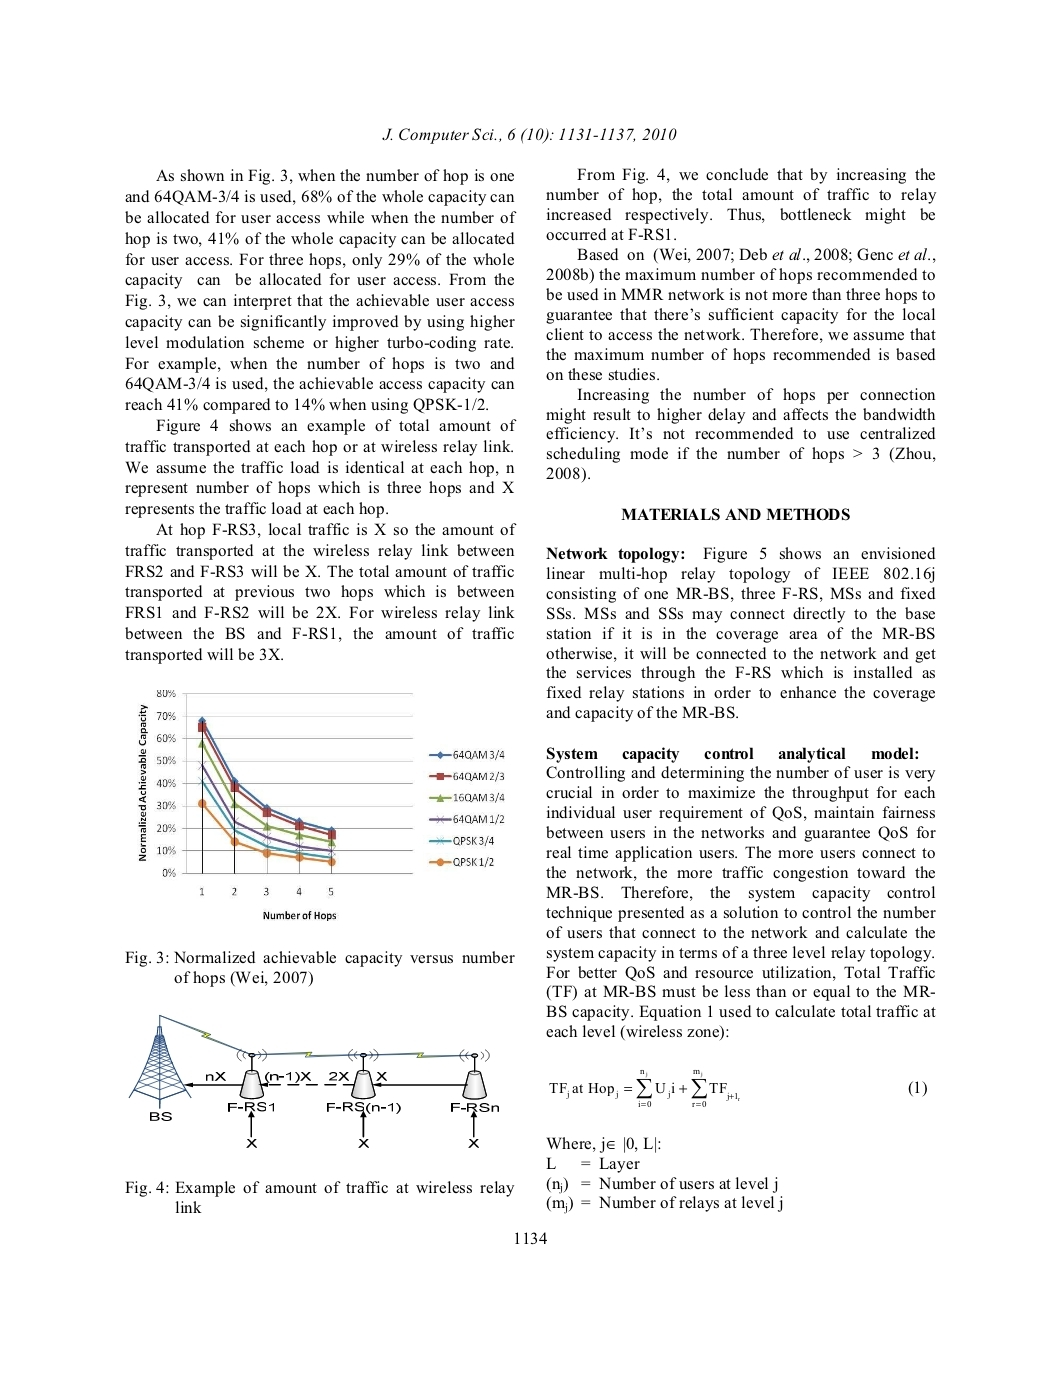figure: (137, 689, 504, 877), (128, 1014, 498, 1148)
formula: (549, 1068, 926, 1107)
